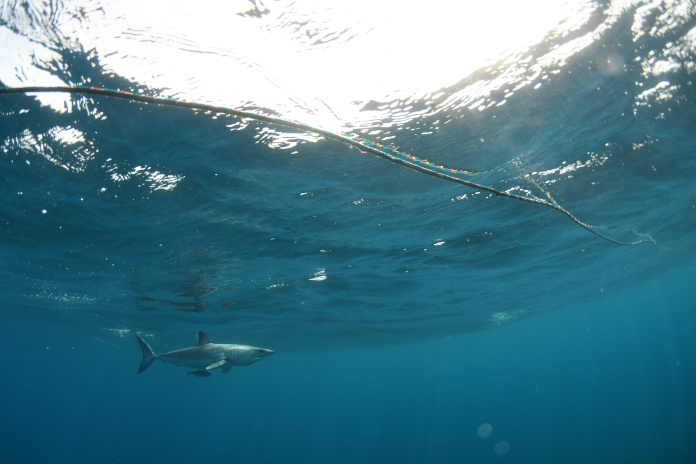Mako: (125, 323, 289, 385)
